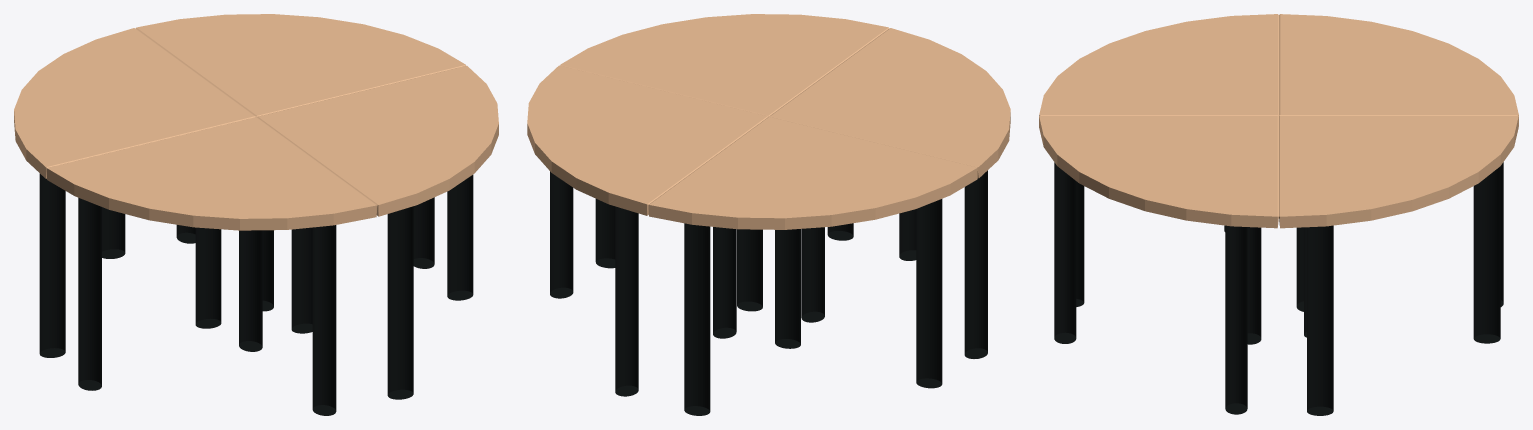
Rendered from table_Illya.fbx.
The picture shows the model from 3 angles, left to right: view 1: azimuth 30°, elevation 25°; view 2: azimuth 150°, elevation 25°; view 3: azimuth 270°, elevation 25°; orthographic projection.
Parts seen in each view (by area): view 1: Cylinder.005, Cylinder.001, Cylinder.006, Cylinder.002, Cylinder.004; view 2: Cylinder.006, Cylinder.002, Cylinder.005, Cylinder.001, Cylinder.004; view 3: Cylinder.002, Cylinder.001, Cylinder.006, Cylinder.004, Cylinder.005.
Part boxes in pixels (<box>): Cylinder.005: <box>47,117,377,415</box>; Cylinder.001: <box>257,66,498,399</box>; Cylinder.006: <box>14,28,255,357</box>; Cylinder.002: <box>136,14,465,311</box>; Cylinder.004: <box>258,66,498,399</box>; Cylinder.006: <box>648,116,977,415</box>; Cylinder.002: <box>527,65,768,396</box>; Cylinder.005: <box>769,28,1010,358</box>; Cylinder.001: <box>561,14,889,311</box>; Cylinder.004: <box>560,14,888,311</box>; Cylinder.002: <box>1279,116,1518,415</box>; Cylinder.001: <box>1039,116,1278,414</box>; Cylinder.006: <box>1279,14,1518,311</box>; Cylinder.004: <box>1039,116,1278,414</box>; Cylinder.005: <box>1039,14,1278,306</box>.
Bounding box in the file's own units: 250 × 119 × 250.
